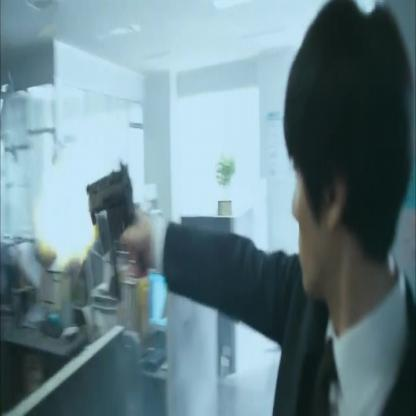Gun: (83, 152, 147, 308)
